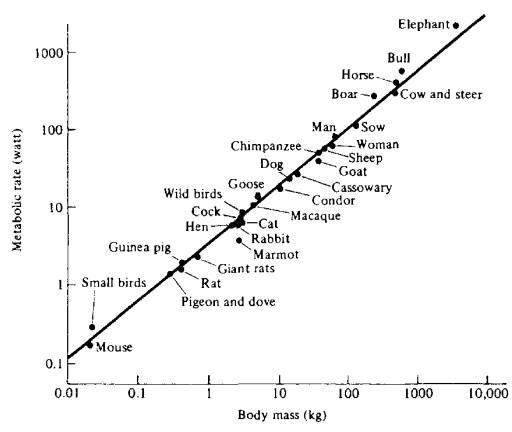axis: (62, 374, 509, 389), (62, 21, 76, 389)
point: (451, 20, 461, 31), (253, 192, 263, 202), (292, 168, 302, 178), (397, 67, 407, 77), (275, 184, 286, 193), (249, 201, 259, 210), (284, 174, 294, 183), (331, 132, 340, 142), (351, 121, 361, 130), (177, 259, 188, 267), (192, 254, 203, 262), (88, 323, 97, 332), (238, 208, 247, 217), (314, 157, 323, 166), (176, 266, 186, 274), (370, 91, 378, 101), (390, 89, 400, 97), (392, 79, 402, 87), (234, 236, 243, 244), (227, 222, 236, 230), (314, 149, 323, 157), (320, 144, 329, 152), (329, 141, 337, 150), (86, 342, 94, 350), (166, 270, 174, 278), (235, 222, 244, 229)
